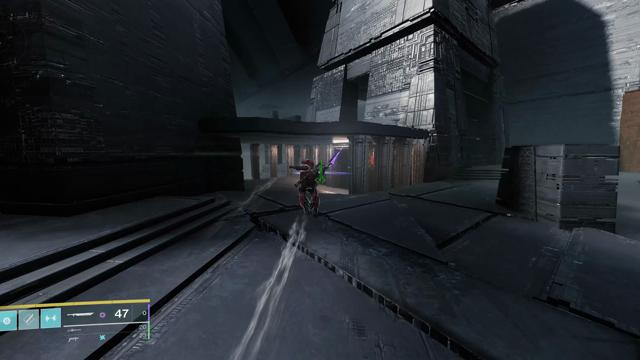kill: (368, 147, 375, 172)
